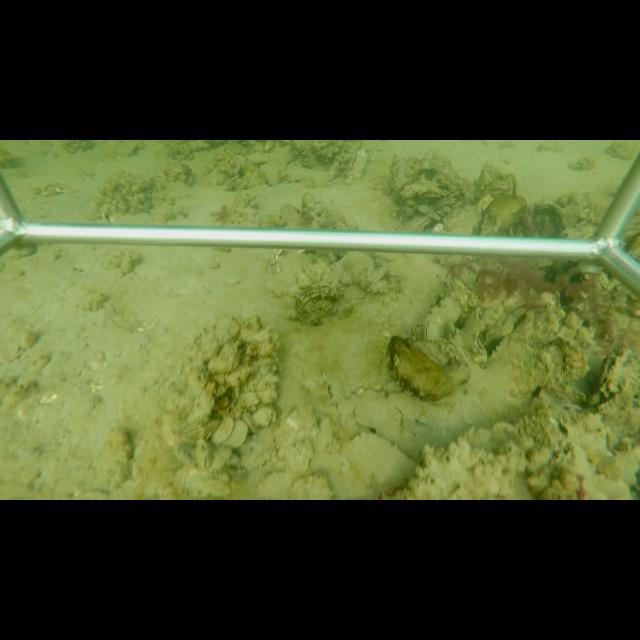Oyster-Closed: (338, 428, 423, 484), (391, 336, 454, 398), (414, 296, 461, 341), (246, 198, 316, 227), (478, 194, 527, 235), (460, 308, 485, 357), (343, 146, 366, 183), (210, 416, 238, 446), (224, 417, 248, 450), (418, 316, 440, 344), (446, 322, 455, 336)
Oyster-Open: (590, 351, 627, 410)
